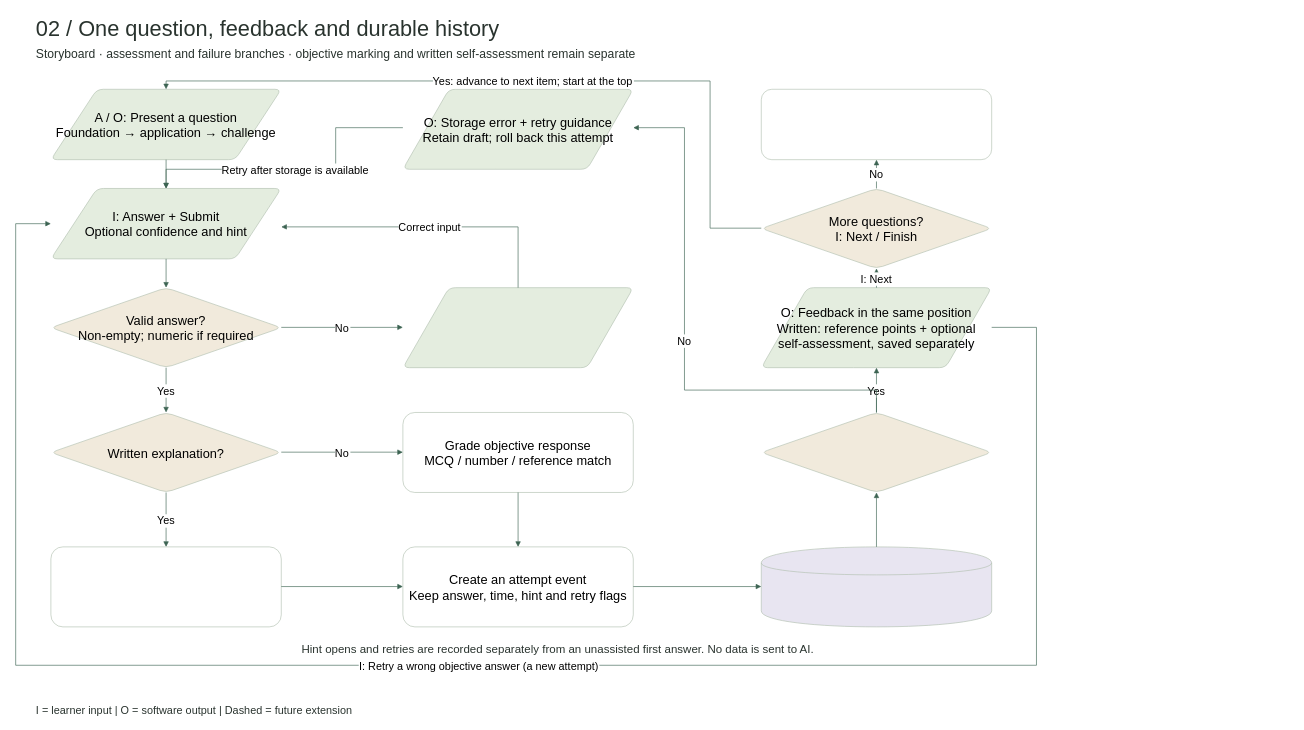
Image size: 1304x730. Some labels were removed from this diagram. The centre of each missing label's shape, as x and y in pixels:
B / Continue on page 03 Finish the practice session: (x=876, y=124)
O: Prompt for a valid answer No attempt is recorded: (x=517, y=327)
Record raw written response correct = null; pending review: (x=165, y=586)
Save succeeded?: (x=876, y=452)
Write to browser-local history IndexedDB → localStorage fallback: (x=876, y=586)
